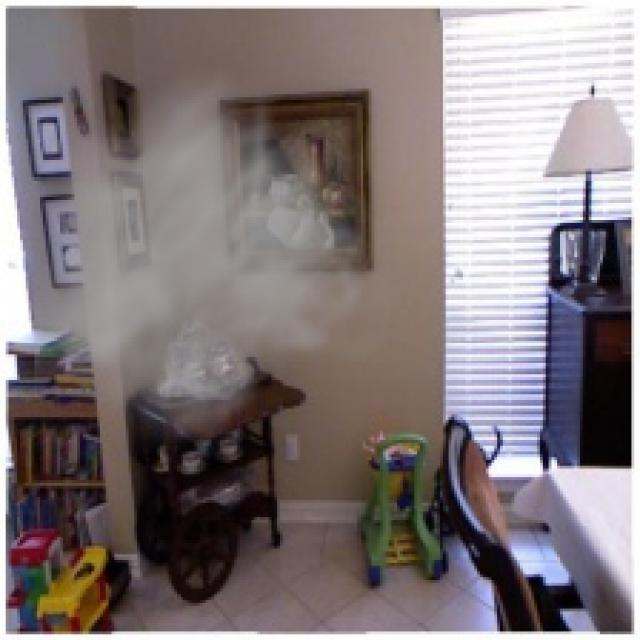Smoke: (34, 57, 409, 460)
